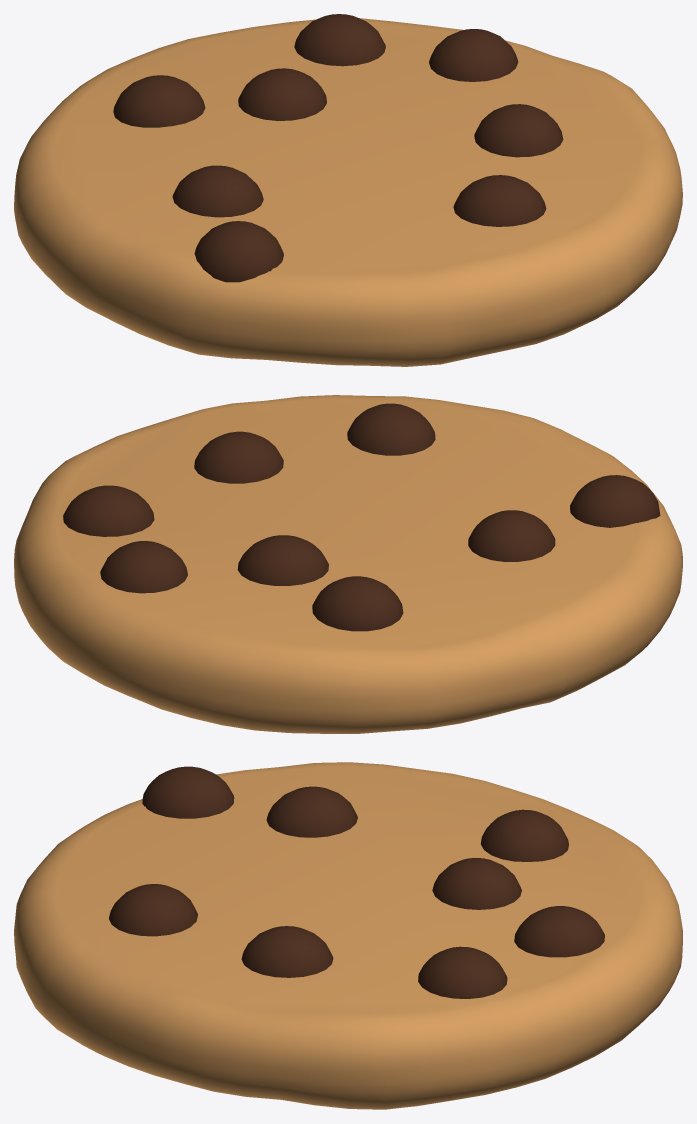
The model's file is BigBebehCookie.glb.
3 views of the same model, one above another, from view 1: azimuth 30°, elevation 25°; view 2: azimuth 150°, elevation 25°; view 3: azimuth 270°, elevation 25° (orthographic).
Parts seen in each view (by area): view 1: CookieBase, CookieChip7, CookieChip5, CookieChip4, CookieChip8, CookieChip2, CookieChip6, CookieChip3, CookieChip1; view 2: CookieBase, CookieChip5, CookieChip6, CookieChip7, CookieChip2, CookieChip1, CookieChip4, CookieChip8, CookieChip3; view 3: CookieBase, CookieChip7, CookieChip2, CookieChip8, CookieChip6, CookieChip4, CookieChip3, CookieChip5, CookieChip1.
Part boxes in pixels (bbox=[...]): CookieBase: bbox=[14, 18, 682, 366]; CookieChip7: bbox=[194, 221, 283, 282]; CookieChip5: bbox=[113, 75, 205, 127]; CookieChip4: bbox=[453, 175, 546, 226]; CookieChip8: bbox=[294, 14, 385, 66]; CookieChip2: bbox=[474, 104, 563, 157]; CookieChip6: bbox=[429, 29, 518, 81]; CookieChip3: bbox=[172, 165, 263, 217]; CookieChip1: bbox=[238, 68, 326, 120]; CookieBase: bbox=[14, 395, 682, 733]; CookieChip5: bbox=[312, 576, 403, 631]; CookieChip6: bbox=[63, 485, 154, 536]; CookieChip7: bbox=[570, 475, 660, 527]; CookieChip2: bbox=[194, 431, 283, 483]; CookieChip1: bbox=[237, 535, 328, 585]; CookieChip4: bbox=[347, 403, 435, 455]; CookieChip8: bbox=[100, 541, 187, 593]; CookieChip3: bbox=[468, 510, 555, 561]; CookieBase: bbox=[14, 762, 682, 1109]; CookieChip7: bbox=[142, 766, 234, 818]; CookieChip2: bbox=[241, 926, 333, 977]; CookieChip8: bbox=[514, 906, 604, 957]; CookieChip6: bbox=[418, 946, 507, 998]; CookieChip4: bbox=[109, 884, 197, 936]; CookieChip3: bbox=[266, 786, 357, 837]; CookieChip5: bbox=[481, 809, 568, 861]; CookieChip1: bbox=[432, 858, 521, 909].
Size of the model in its own units: 3.27 by 0.645 by 3.24.
